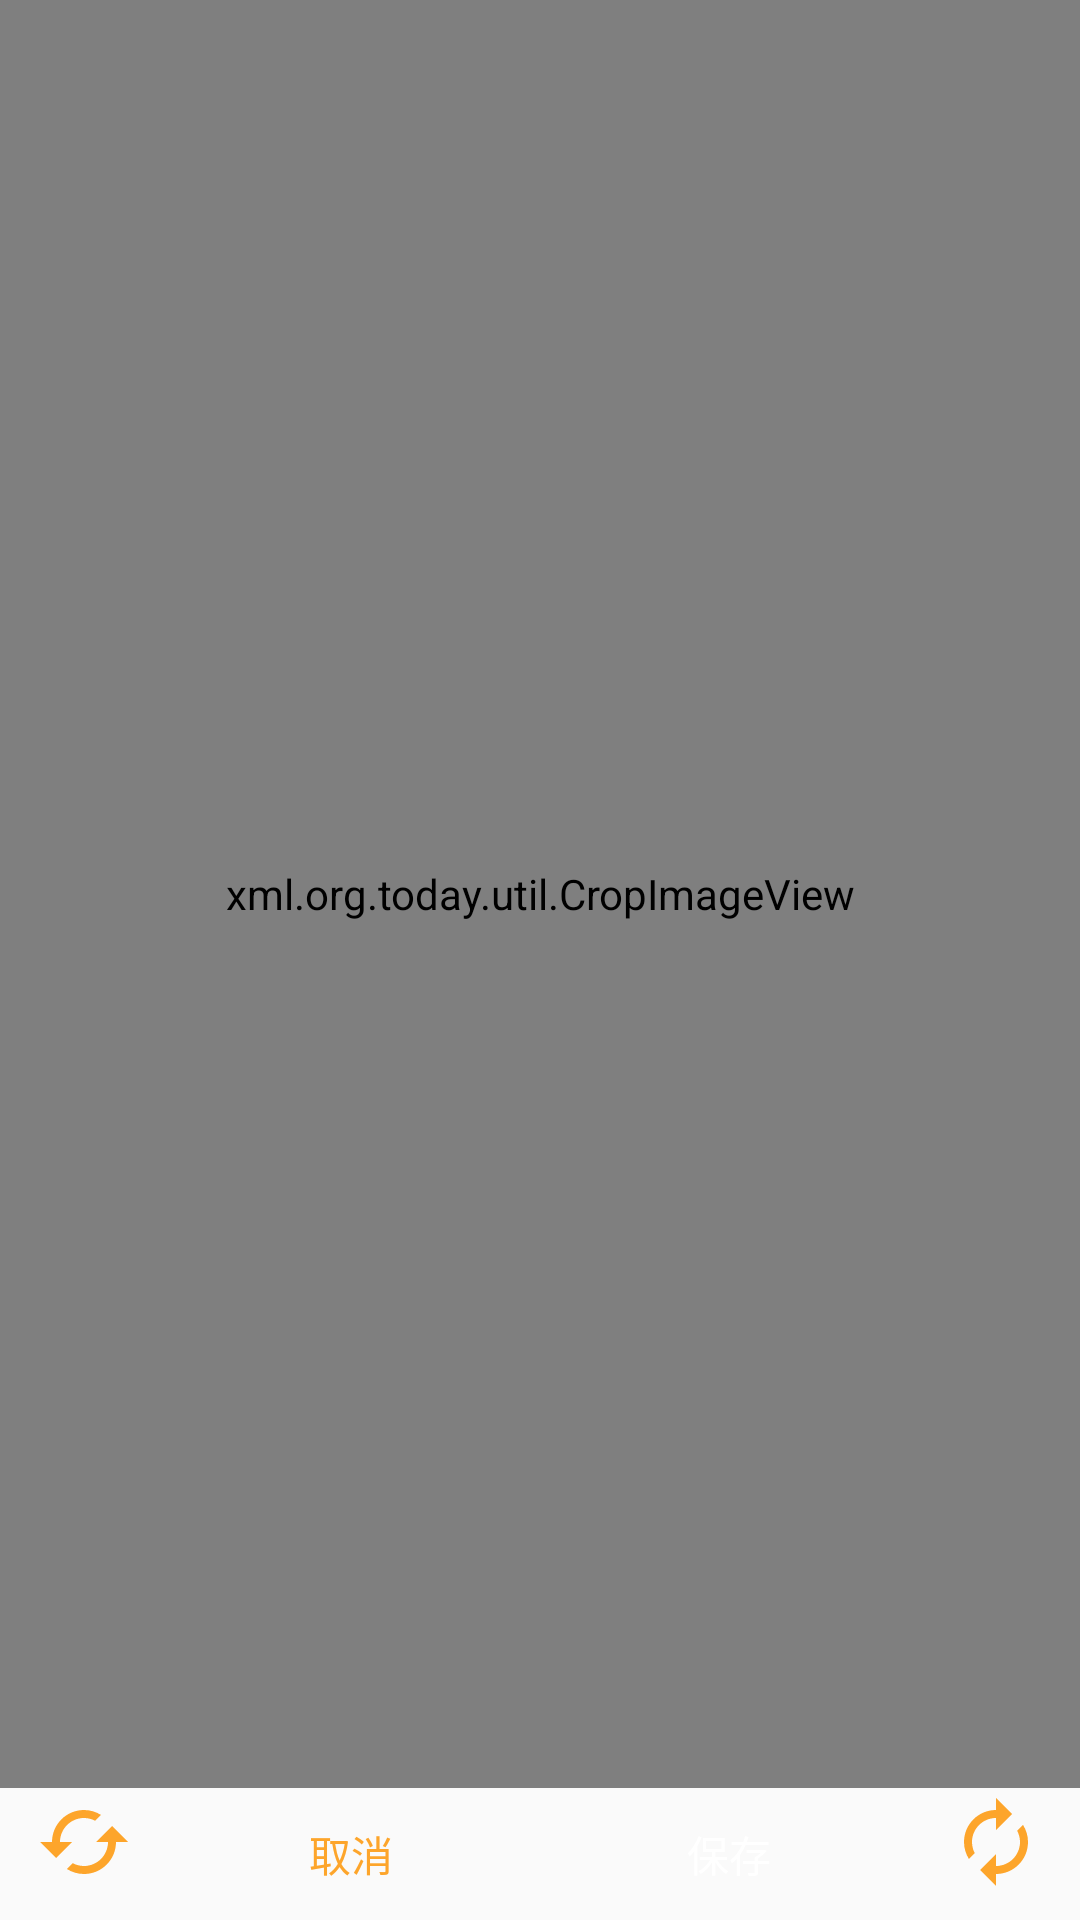

Icons on this 1080*1920 Android screen, each with its box as [x1, y1, x2, y2]:
rotate left: [40, 1810, 128, 1874]
